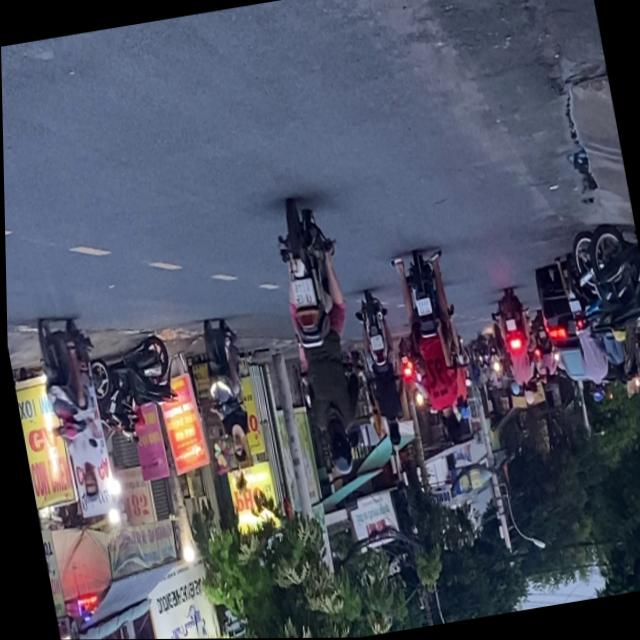helmet: (323, 429, 354, 478), (77, 467, 99, 505)
licenseplate: (263, 195, 376, 482), (26, 309, 118, 510), (389, 246, 476, 449), (193, 315, 259, 471)
motorcyclist: (437, 407, 461, 445), (228, 436, 247, 468)
nohelmet: (289, 279, 315, 308), (414, 299, 431, 318)
